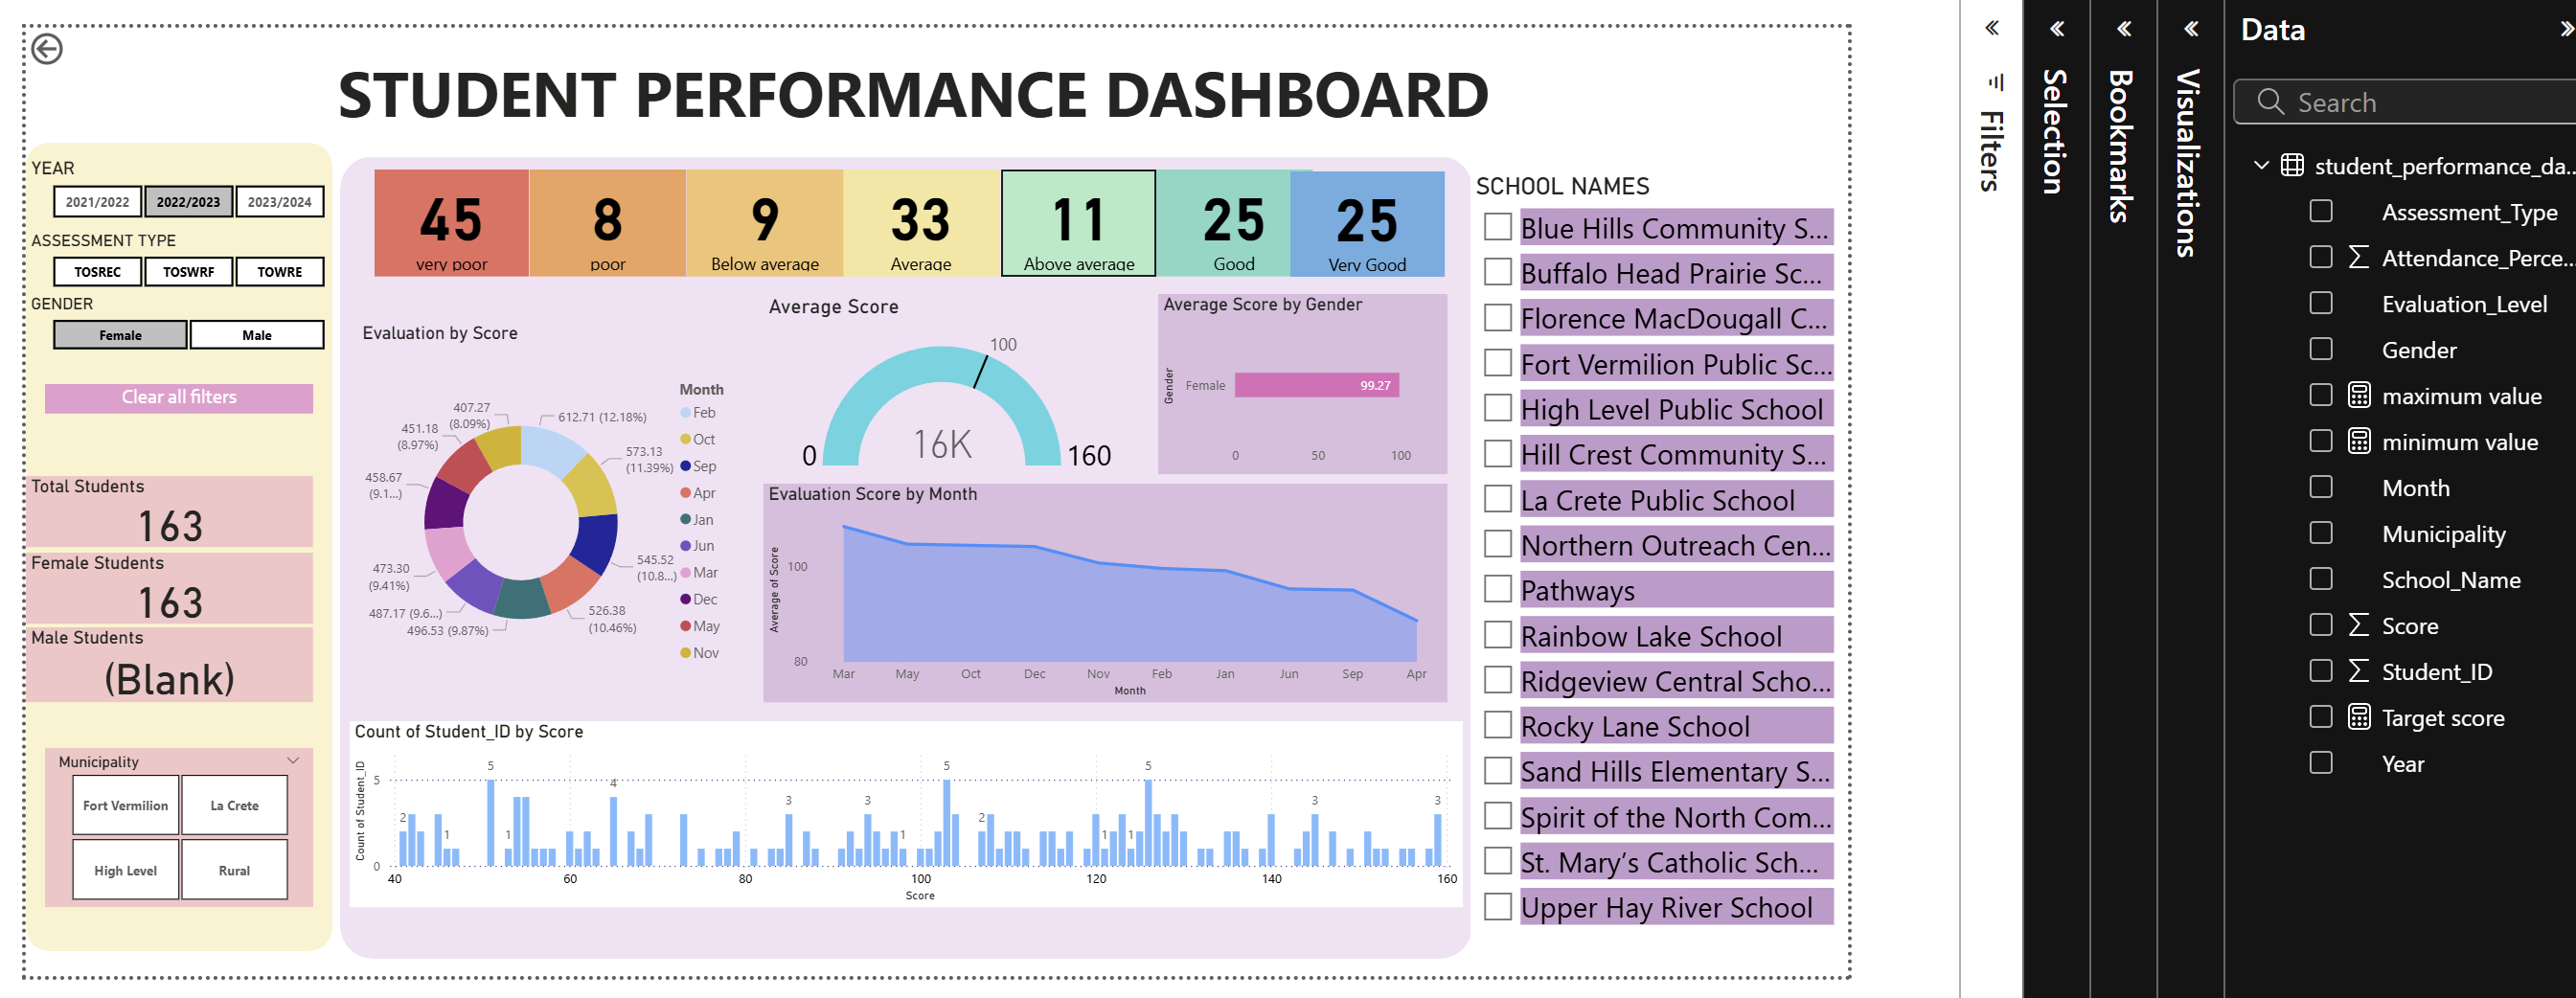

This screenshot's page, from the dashboard's own definition file:
{"tool":"powerbi","page":{"name":"Page 1","canvas":[1729,900],"ordinal":0},"visuals":[{"type":"shape","box":[298.2,112.7,1074.5,770.9],"z":0},{"type":"shape","box":[0,109.1,290.9,767.3],"z":500},{"type":"card","title":"Total Students","fields":{"Values":["CountNonNull(student_performance_dataset_1000_rows.Student_ID)"]},"box":[0,425.5,272.7,67.3],"z":1000},{"type":"card","title":"Female Students","fields":{"Values":["CountNonNull(student_performance_dataset_1000_rows.Student_ID)"]},"box":[0,498.2,272.7,67.3],"z":2000},{"type":"actionButton","box":[0,0,100,40],"z":3000},{"type":"card","title":"Male Students","fields":{"Values":["CountNonNull(student_performance_dataset_1000_rows.Student_ID)"]},"box":[0,569.1,272.7,70.9],"z":4000},{"type":"card","fields":{"Values":["CountNonNull(student_performance_dataset_1000_rows.Student_ID)"]},"box":[331.7,135,146.7,101.7],"z":5000},{"type":"card","fields":{"Values":["CountNonNull(student_performance_dataset_1000_rows.Student_ID)"]},"box":[478.3,135,148.3,101.7],"z":6000},{"type":"card","fields":{"Values":["CountNonNull(student_performance_dataset_1000_rows.Student_ID)"]},"box":[925,135,148.3,101.7],"z":7000},{"type":"card","fields":{"Values":["CountNonNull(student_performance_dataset_1000_rows.Student_ID)"]},"box":[775,135,150,101.7],"z":8000},{"type":"card","fields":{"Values":["CountNonNull(student_performance_dataset_1000_rows.Student_ID)"]},"box":[626.7,135,148.3,101.7],"z":9000},{"type":"card","fields":{"Values":["CountNonNull(student_performance_dataset_1000_rows.Student_ID)"]},"box":[1073.3,135,148.3,101.7],"z":10000},{"type":"card","fields":{"Values":["CountNonNull(student_performance_dataset_1000_rows.Student_ID)"]},"box":[1200,136.7,146.7,100],"z":11000},{"type":"gauge","title":"Average Score","fields":{"Y":["Sum(student_performance_dataset_1000_rows.Score)"],"MinValue":["student_performance_dataset_1000_rows.minimum value"],"MaxValue":["student_performance_dataset_1000_rows.maximum value"],"TargetValue":["student_performance_dataset_1000_rows.Target score"]},"box":[700,252.7,367.3,172.7],"z":12000},{"type":"clusteredColumnChart","fields":{"Category":["student_performance_dataset_1000_rows.Score"],"Y":["CountNonNull(student_performance_dataset_1000_rows.Student_ID)"]},"box":[307.3,658.2,1056.4,176.4],"z":13000},{"type":"donutChart","title":"Evaluation by Score","fields":{"Y":["Avg(student_performance_dataset_1000_rows.Student_ID)"],"Category":["student_performance_dataset_1000_rows.Month"]},"box":[314.5,280,372.7,360],"z":14000},{"type":"clusteredBarChart","fields":{"Category":["student_performance_dataset_1000_rows.Gender"],"Y":["Avg(student_performance_dataset_1000_rows.Score)"]},"box":[1074.5,252.7,274.5,170.9],"z":15000},{"type":"lineChart","title":"Evaluation Score by Month","fields":{"Category":["student_performance_dataset_1000_rows.Month"],"Y":["Avg(student_performance_dataset_1000_rows.Score)"]},"box":[700,432.7,649.1,207.3],"z":16000},{"type":"slicer","title":"YEAR","fields":{"Values":["student_performance_dataset_1000_rows.Year"]},"box":[0,123.6,307.3,63.6],"z":17000},{"type":"slicer","title":"SCHOOL NAMES","fields":{"Values":["student_performance_dataset_1000_rows.School_Name"]},"box":[1370,136.7,350,746.7],"z":18000},{"type":"slicer","fields":{"Values":["student_performance_dataset_1000_rows.Municipality"]},"box":[18.2,683.6,254.5,150.9],"z":19000},{"type":"slicer","title":"GENDER","fields":{"Values":["student_performance_dataset_1000_rows.Gender"]},"box":[0,252.7,307.3,56.4],"z":20000},{"type":"slicer","title":"ASSESSMENT TYPE","fields":{"Values":["student_performance_dataset_1000_rows.Assessment_Type"]},"box":[0,192.7,307.3,60],"z":21000},{"type":"textbox","box":[290,16.7,1120,106.7],"z":22000},{"type":"actionButton","title":"Clear all filters","box":[18.2,338.2,254.5,32.7],"z":22001}]}

Visuals, with their boxes in screenshot pixels (x1, y1, x2, y2):
shape: box(885, 72, 2020, 886)
shape: box(570, 68, 878, 878)
"Total Students" card: box(570, 402, 858, 473)
"Female Students" card: box(570, 479, 858, 551)
"Male Students" card: box(570, 555, 858, 629)
card - CountNonNull(student_performance_dataset_1000_rows.Student_ID): box(921, 96, 1076, 203)
card - CountNonNull(student_performance_dataset_1000_rows.Student_ID): box(1076, 96, 1232, 203)
card - CountNonNull(student_performance_dataset_1000_rows.Student_ID): box(1547, 96, 1704, 203)
card - CountNonNull(student_performance_dataset_1000_rows.Student_ID): box(1389, 96, 1547, 203)
card - CountNonNull(student_performance_dataset_1000_rows.Student_ID): box(1232, 96, 1389, 203)
card - CountNonNull(student_performance_dataset_1000_rows.Student_ID): box(1704, 96, 1860, 203)
card - CountNonNull(student_performance_dataset_1000_rows.Student_ID): box(1838, 98, 1993, 203)
"Average Score" gauge: box(1310, 220, 1698, 402)
clusteredColumnChart - student_performance_dataset_1000_rows.Score x CountNonNull(student_performance_dataset_1000_rows.Student_ID): box(895, 648, 2011, 834)
"Evaluation by Score" donutChart: box(902, 249, 1296, 629)
clusteredBarChart - student_performance_dataset_1000_rows.Gender x Avg(student_performance_dataset_1000_rows.Score): box(1705, 220, 1995, 400)
"Evaluation Score by Month" lineChart: box(1310, 410, 1995, 629)
"YEAR" slicer: box(570, 83, 895, 150)
"SCHOOL NAMES" slicer: box(2017, 98, 2387, 886)
slicer - student_performance_dataset_1000_rows.Municipality: box(589, 675, 858, 834)
"GENDER" slicer: box(570, 220, 895, 280)
"ASSESSMENT TYPE" slicer: box(570, 156, 895, 220)
textbox: box(877, 0, 2060, 83)
"Clear all filters" actionButton: box(589, 310, 858, 345)
